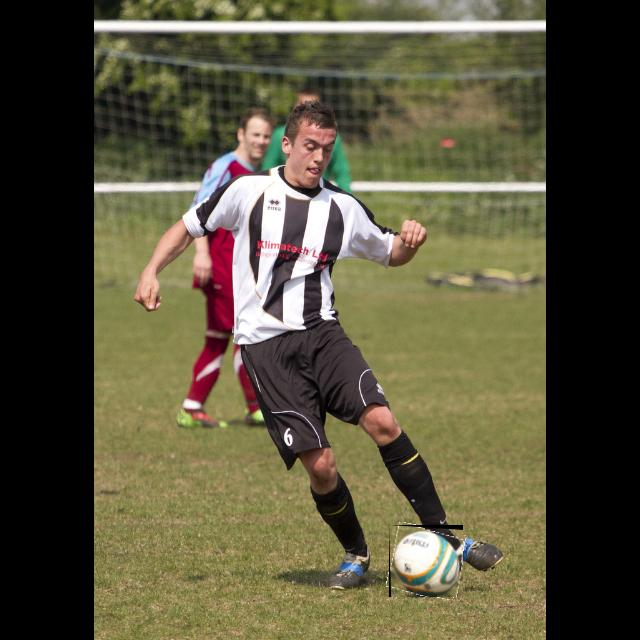Football: (389, 525, 463, 597)
